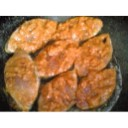seerfish: (4, 49, 38, 110), (5, 18, 57, 55), (34, 38, 80, 79), (75, 68, 116, 109), (75, 33, 112, 77), (39, 70, 77, 110), (55, 16, 103, 43)
